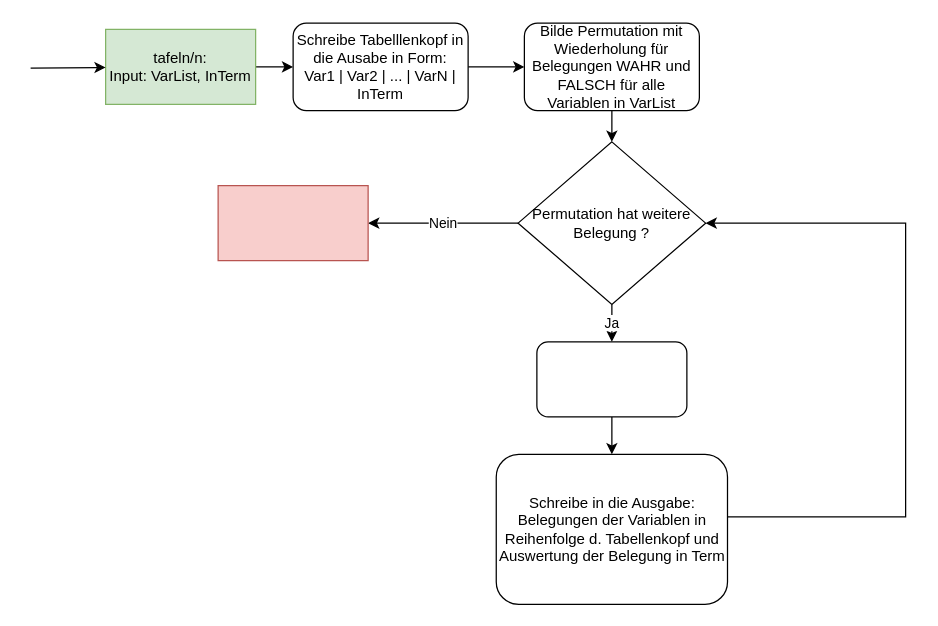
The diagram is 938 pixels wide and 626 high, and some of its shapes have lost their labels. Here are the shapes that lost their labels. From the top down, the centre of each, then its label:
At point (292, 222): "Beende Funktionslauf".
At point (611, 379): "Belege Variablen mit der derzeitigen Belegung".
